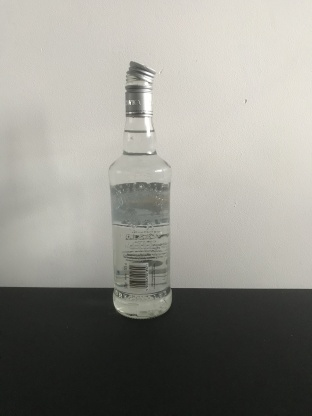nakretka: (123, 58, 157, 118)
